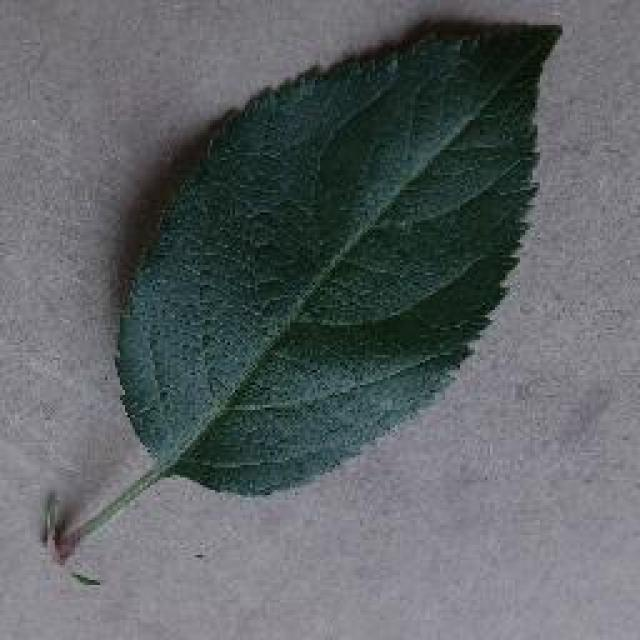apple healthy: (38, 12, 562, 572)
